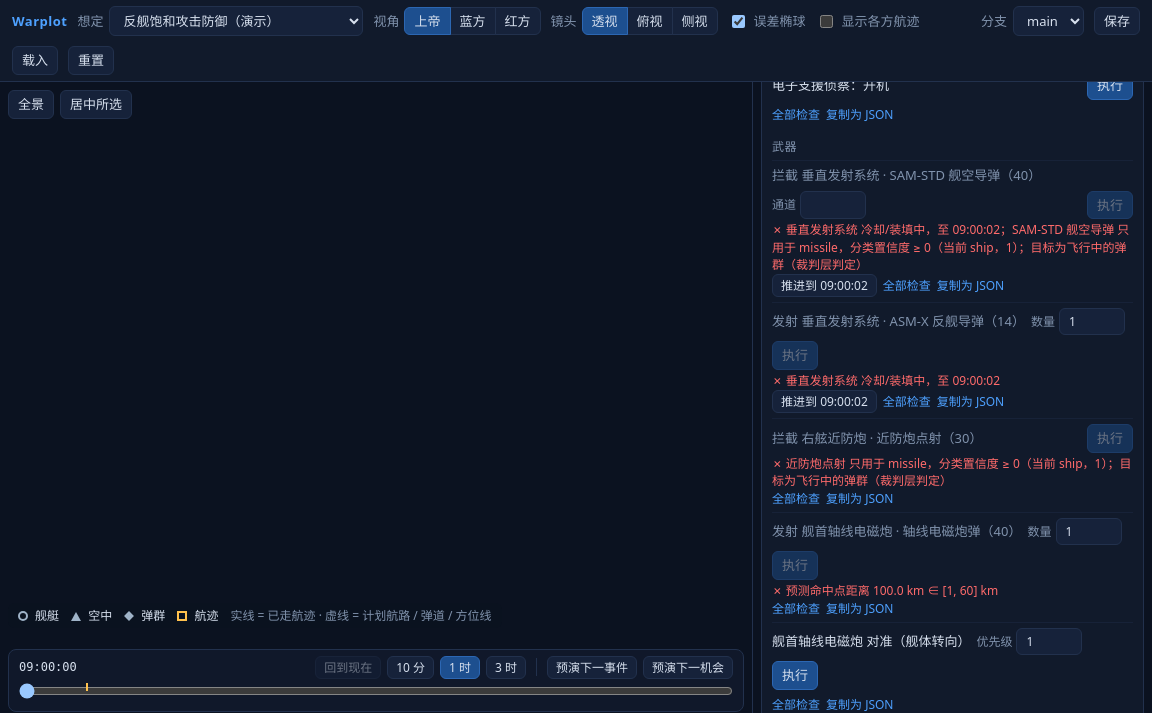
Test: Phase 3 interface › a busy launcher offers to advance to its earliest legal time
The width and height of the screenshot is (1152, 713).
(page scrolled)
Expected: the button "执行" below "发射 垂直发射系统 · ASM-X 反舰导弹（14）" is disabled, [772,341,818,370]
Click the button "推进到 09:00:02" below "发射 垂直发射系统 · ASM-X 反舰导弹（14）": (824, 401) [772,390,877,413]
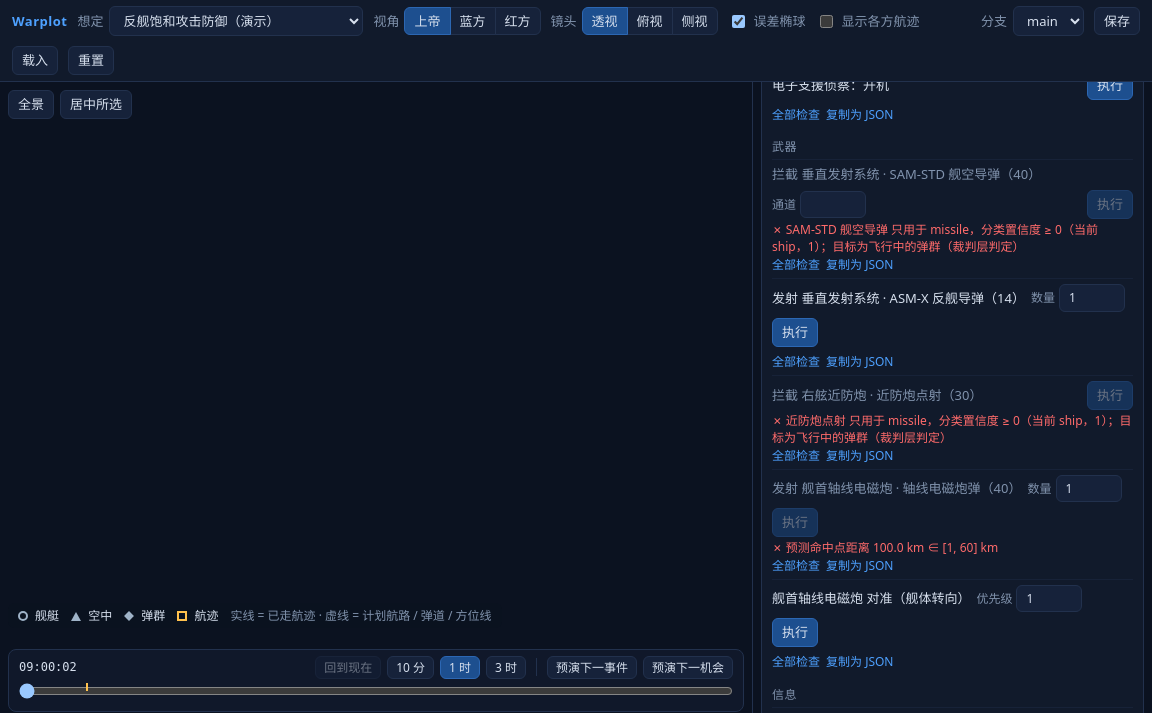
Result: the button "执行" below "发射 垂直发射系统 · ASM-X 反舰导弹（14）" is enabled at [772,318,818,346]
